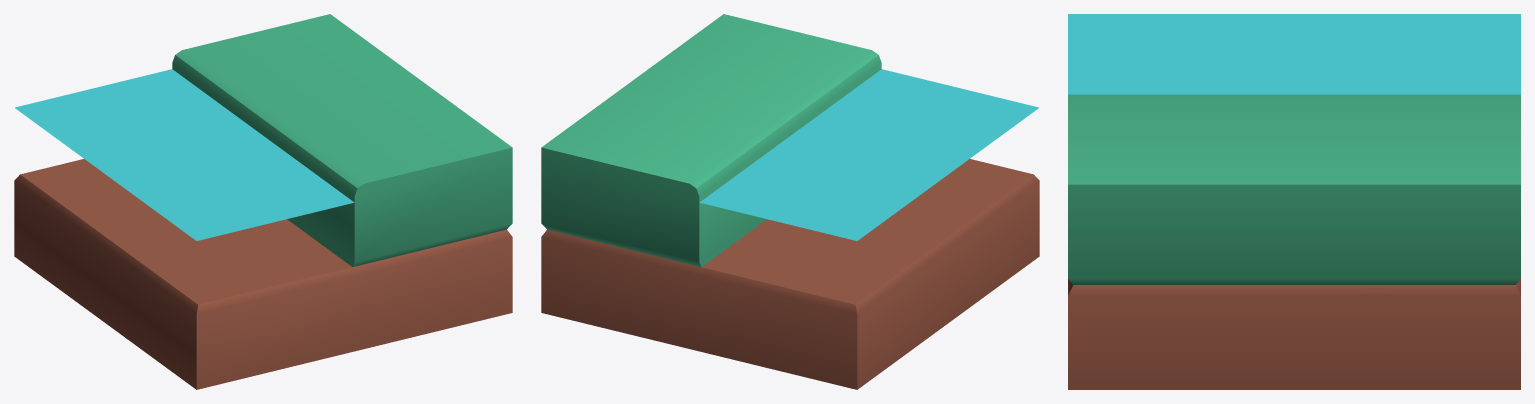
The model's file is kaykit-square-forest-waterstraight-nosides.glb.
3 views of the same model, side by side, from view 1: azimuth 30°, elevation 25°; view 2: azimuth 150°, elevation 25°; view 3: azimuth 270°, elevation 25° (orthographic). The views are drawn at different scales.
Visible parts, largest first — view 1: square_forest_waterStraight_noSides; view 2: square_forest_waterStraight_noSides; view 3: square_forest_waterStraight_noSides.
Part boxes in pixels (box(x1,y1,x2,y2)): square_forest_waterStraight_noSides: box(14, 14, 512, 389); square_forest_waterStraight_noSides: box(541, 14, 1039, 389); square_forest_waterStraight_noSides: box(1068, 14, 1520, 389).
Bounding box in the file's own units: 2 × 1 × 2.
